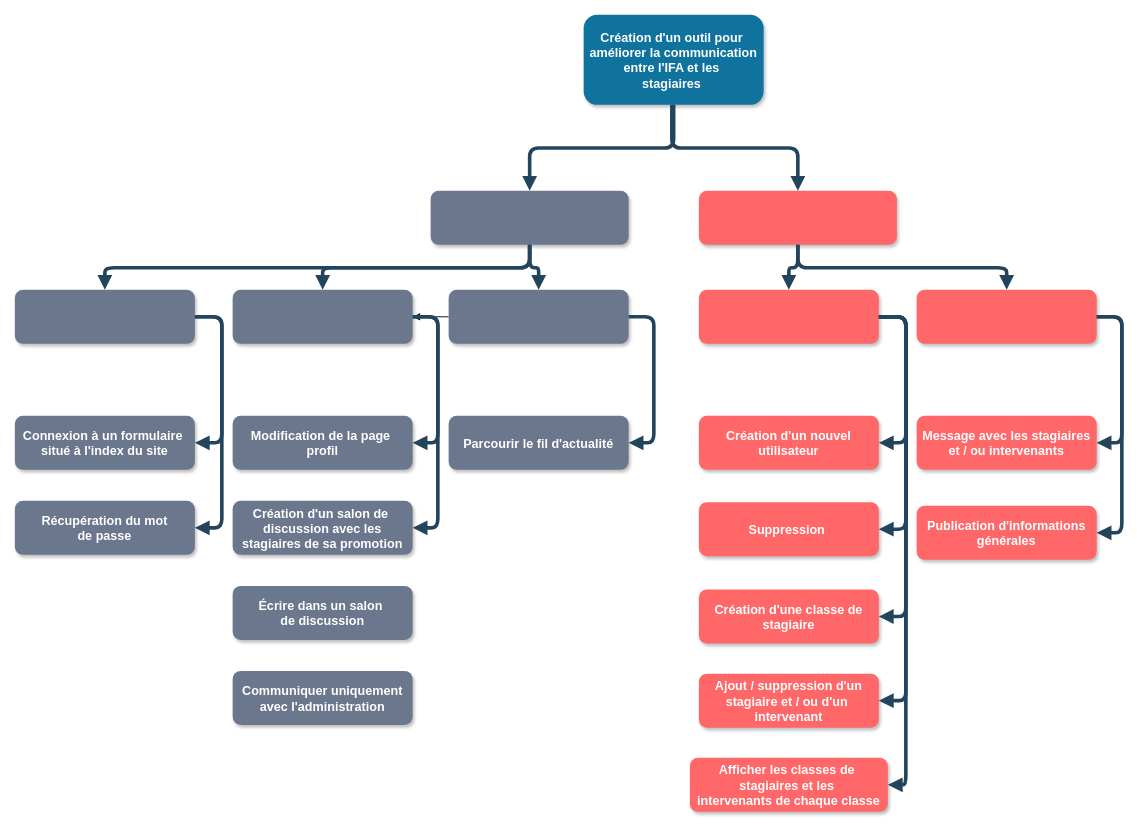
Image size: 1137x826. Some labels were removed from this diagram. The shapes that lost their labels are listed below. From the top down, each one's centre as x and y in pixels, then its label:
the point at 530,219: Stagiaires / Intervenants
the point at 798,219: Administration
the point at 105,318: S'identifier
the point at 323,318: Échanger
the point at 539,318: S'informer
the point at 789,318: Gestion
the point at 1007,318: Communication
